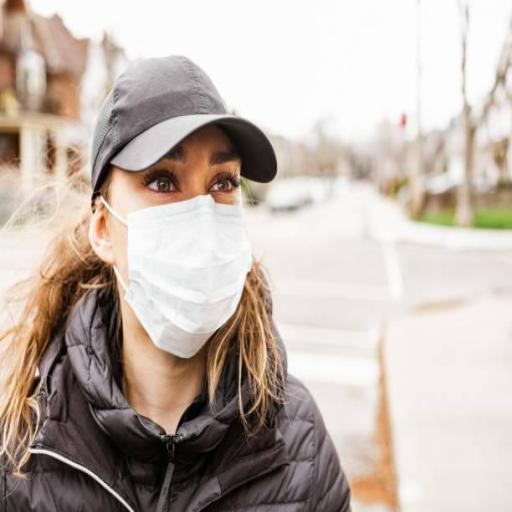mask: (108, 76, 266, 376)
